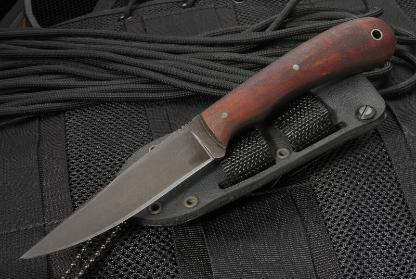knife: (13, 111, 229, 264)
